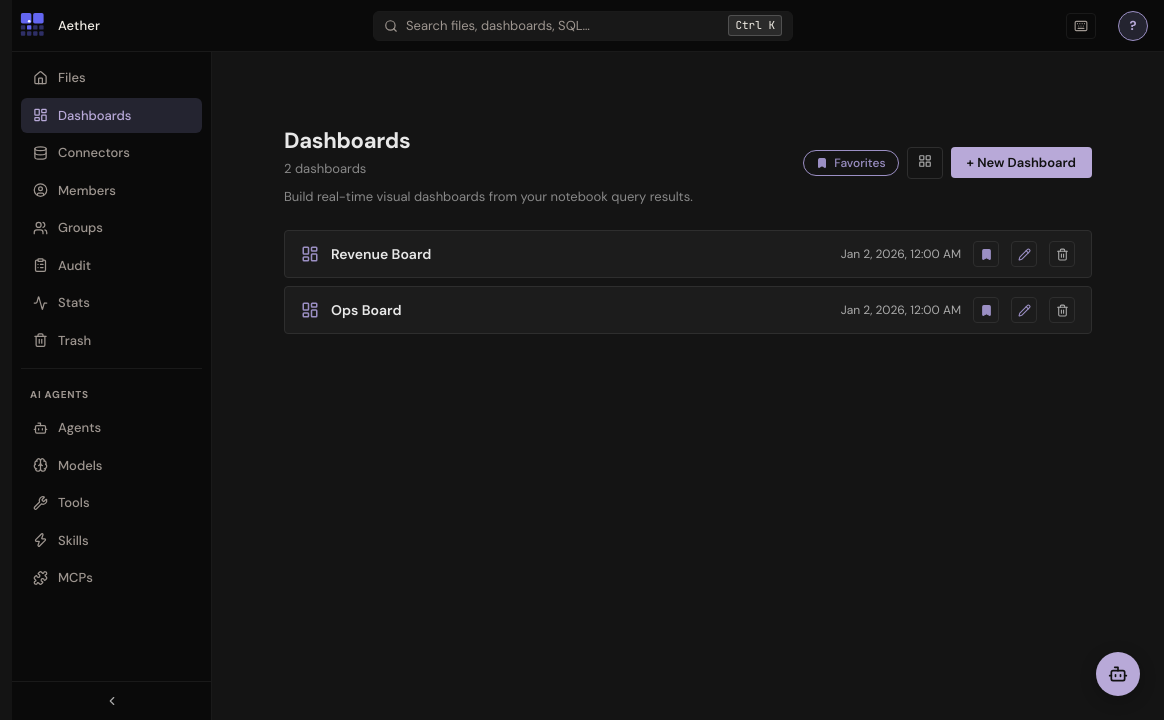
Test: DashboardsPage favorites filter (F3) › a failed refetch keeps the cached filtered rows
Expected: the text "Revenue Board" is shown, [331,244,431,264]
Expected: the text "Ops Board" is shown, [331,300,402,320]
Note: Un-favorite one: the success invalidation refetches, the refetch fails.
Click the button named "Remove from favorites" in the row of "Revenue Board".
click(986, 254)  # box [973,241,999,267]
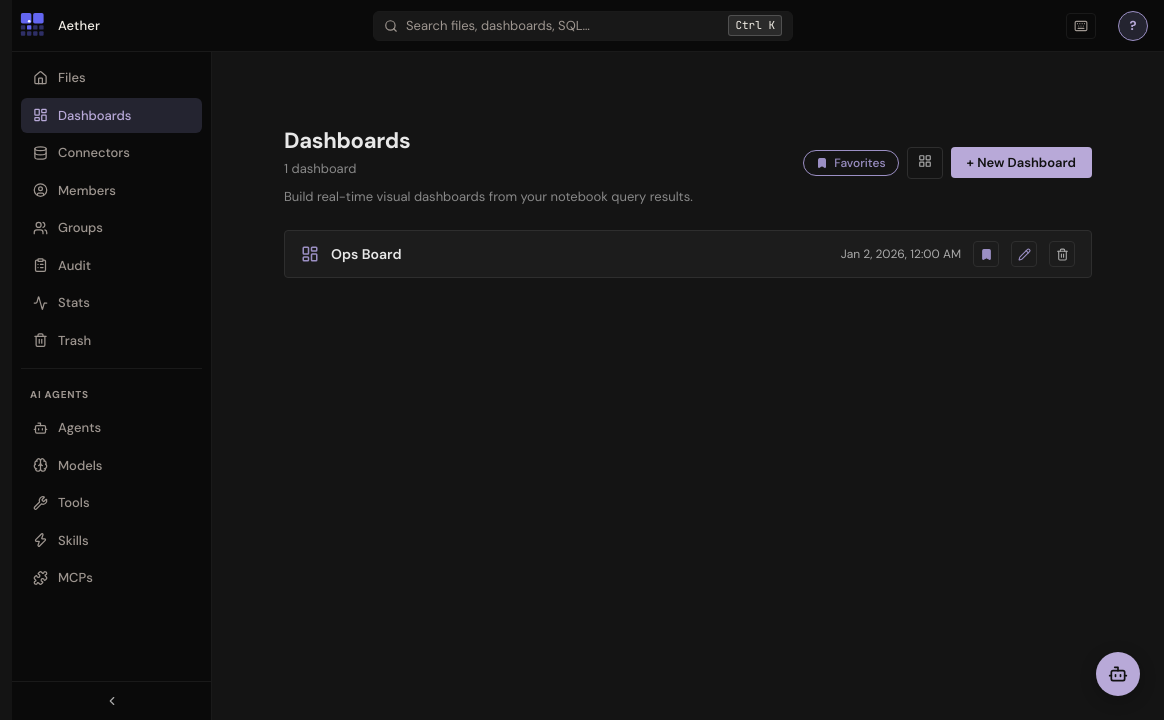
Expected: the text "Ops Board" is shown, [331,244,402,264]
Expected: the link "Revenue Board" is gone
